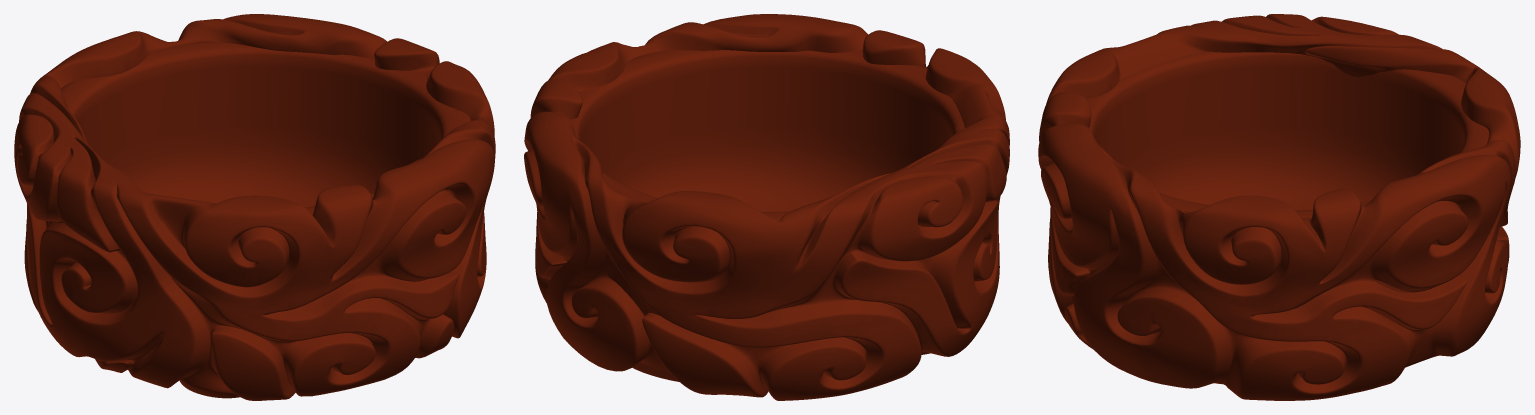
Rendered from Hakod02.glb.
3 renders of one model, left to right at view 1: azimuth 30°, elevation 25°; view 2: azimuth 150°, elevation 25°; view 3: azimuth 270°, elevation 25°, orthographic.
Parts seen in each view (by area): view 1: Hakod01 pot arabesque (1); view 2: Hakod01 pot arabesque (1); view 3: Hakod01 pot arabesque (1).
Part boxes in pixels (bbox=[...]): Hakod01 pot arabesque (1): bbox=[14, 14, 495, 400]; Hakod01 pot arabesque (1): bbox=[524, 14, 1009, 400]; Hakod01 pot arabesque (1): bbox=[1038, 14, 1520, 400].
Bounding box in the file's own units: 2.6 × 1.18 × 2.53.
